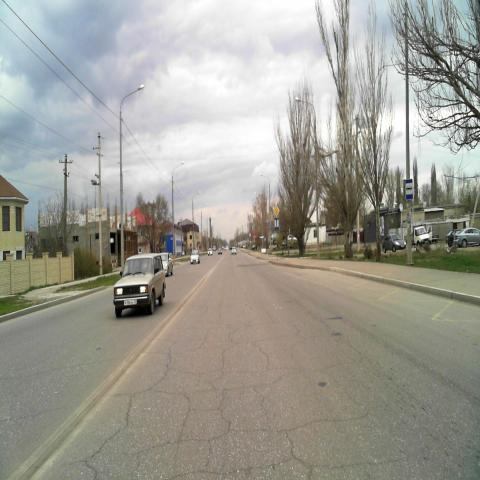5_16: (405, 180, 413, 200)
